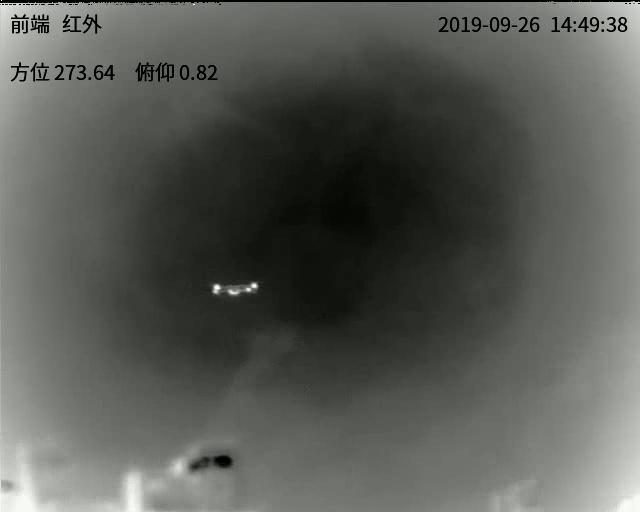DRONE: (212, 280, 260, 298)
